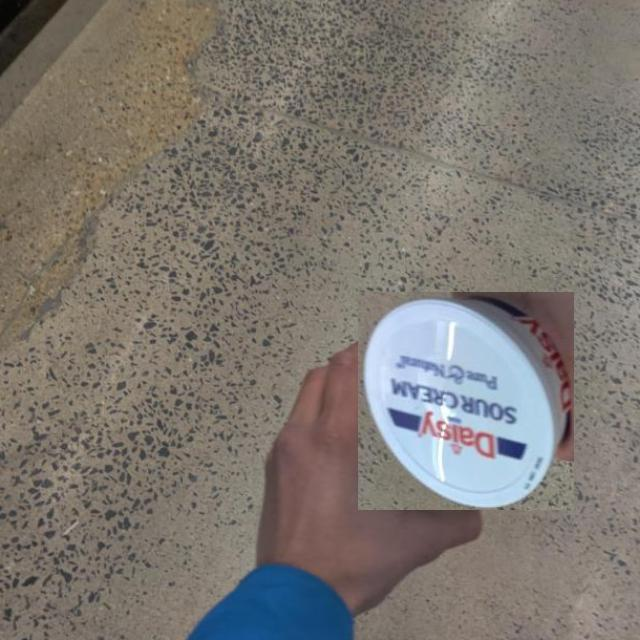Yogurt: (357, 292, 574, 510)
